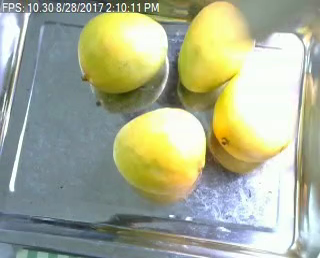Mango: (112, 106, 205, 191), (212, 66, 296, 160), (77, 11, 165, 90), (179, 1, 255, 91)
